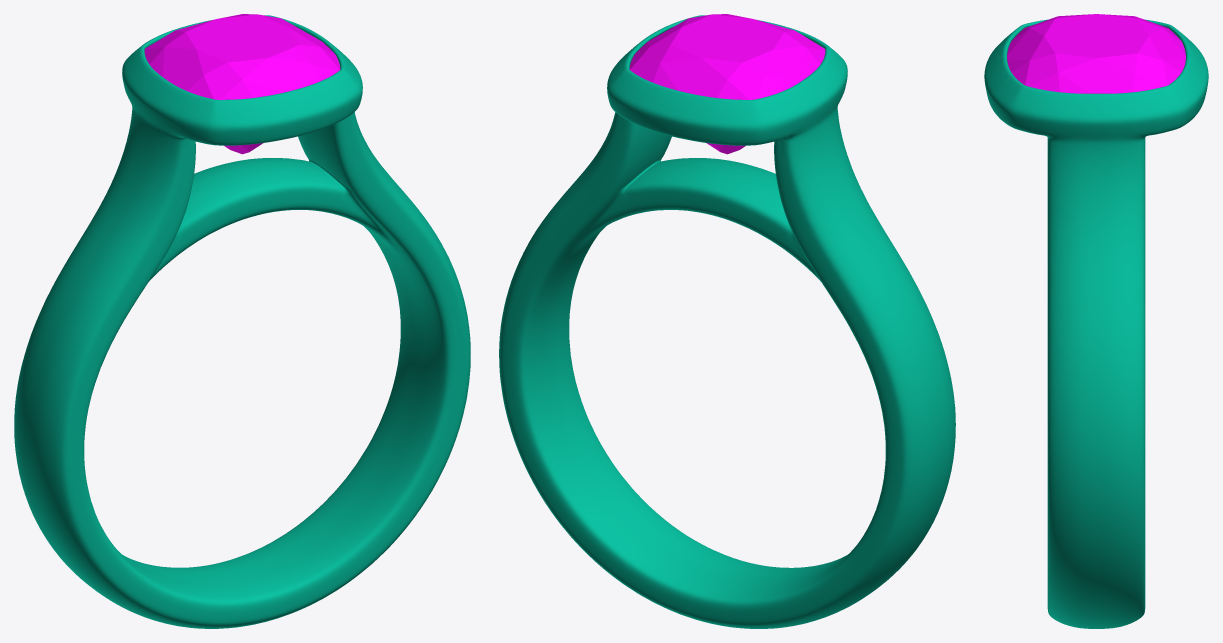
File: BE1964_CU_200ct_RENDER.glb
The picture shows the model from 3 angles, left to right: view 1: azimuth 30°, elevation 25°; view 2: azimuth 150°, elevation 25°; view 3: azimuth 270°, elevation 25°; orthographic projection.
Parts seen in each view (by area): view 1: Metal 01, CS_Diamond_Cushion; view 2: Metal 01, CS_Diamond_Cushion; view 3: Metal 01, CS_Diamond_Cushion.
Part boxes in pixels (box(x1,y1,x2,y2)): Metal 01: box(14, 15, 470, 628); CS_Diamond_Cushion: box(144, 14, 340, 154); Metal 01: box(499, 15, 955, 628); CS_Diamond_Cushion: box(629, 14, 825, 154); Metal 01: box(984, 19, 1208, 628); CS_Diamond_Cushion: box(1007, 14, 1185, 93).
Bounding box in the file's own units: 20.11 × 25.74 × 9.18.
